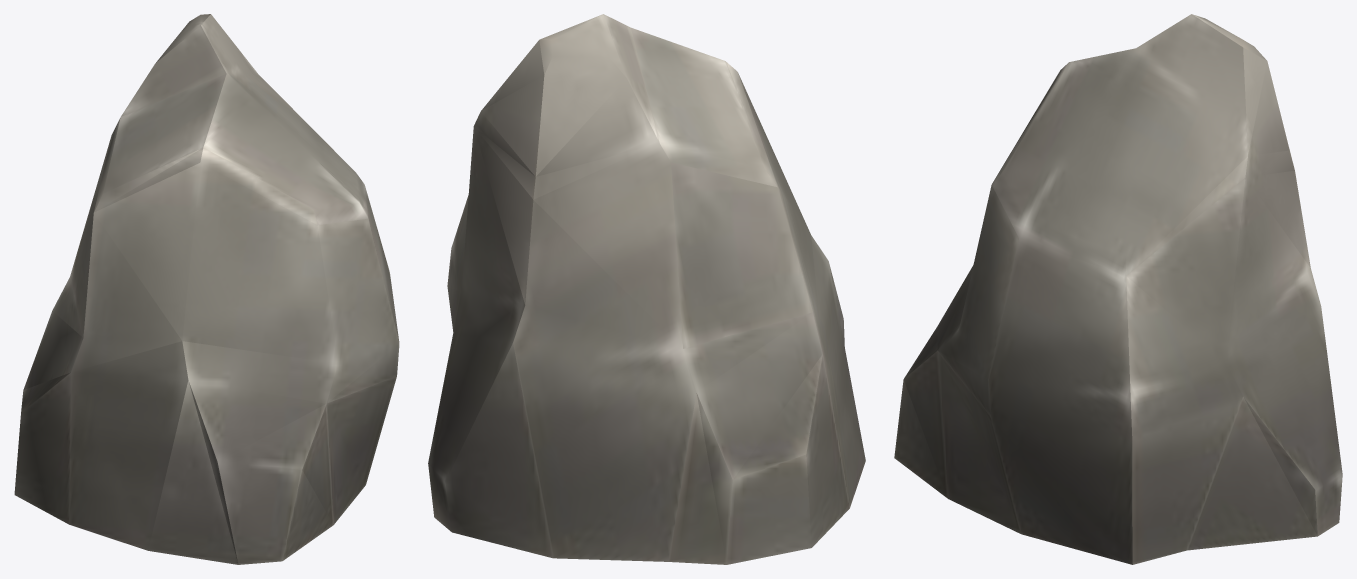
Rendered from r32_erzpack_object_7.glb.
3 renders of one model, left to right at view 1: azimuth 30°, elevation 25°; view 2: azimuth 150°, elevation 25°; view 3: azimuth 270°, elevation 25°, orthographic. The views are drawn at different scales.
Parts seen in each view (by area): view 1: erz_7; view 2: erz_7; view 3: erz_7.
Part boxes in pixels (x1=…): erz_7: x1=14, y1=14, x2=399, y2=564; erz_7: x1=428, y1=14, x2=865, y2=564; erz_7: x1=894, y1=14, x2=1342, y2=564.
Bounding box in the file's own units: 0.8601 × 1 × 0.8603.
Materials: 1 (1 with a texture image).
